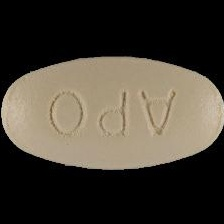60505-0247: (0, 0, 224, 224)
